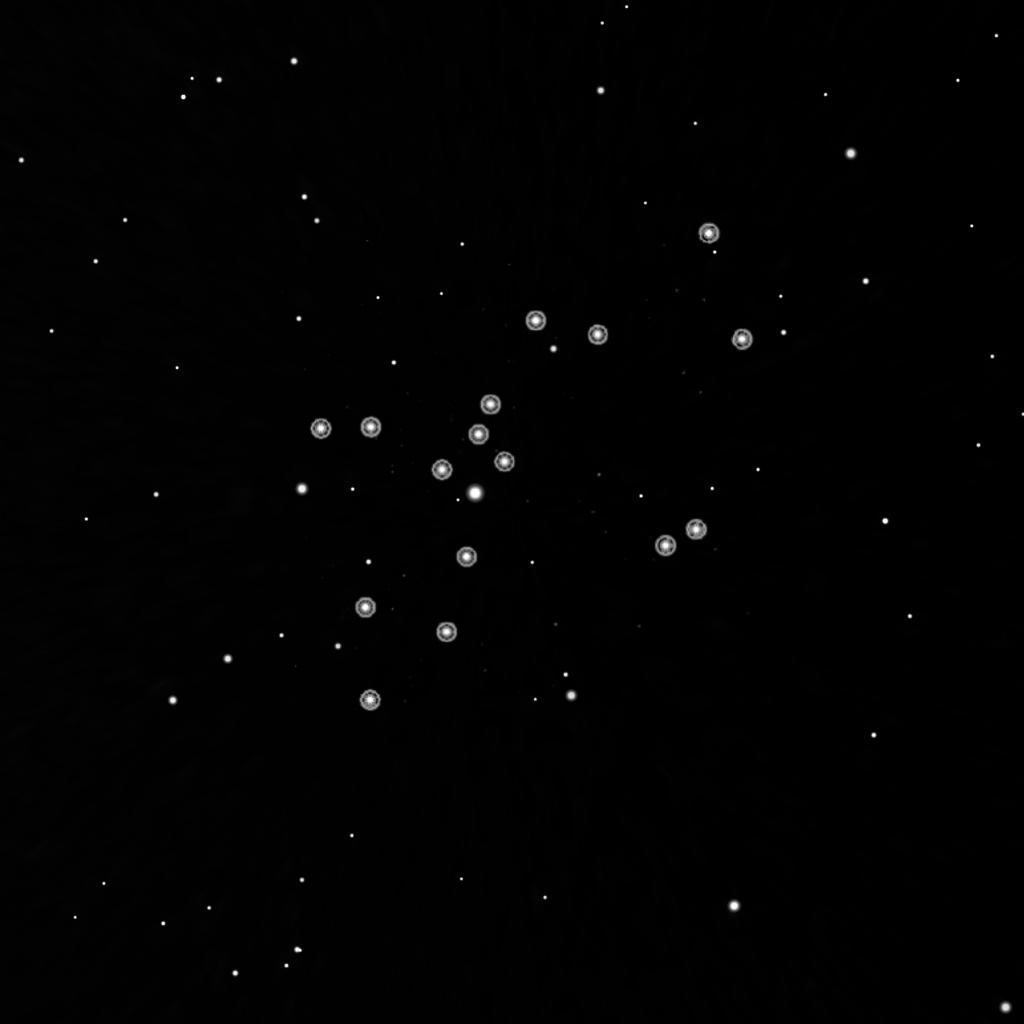canis_major: (428, 307, 612, 488)
